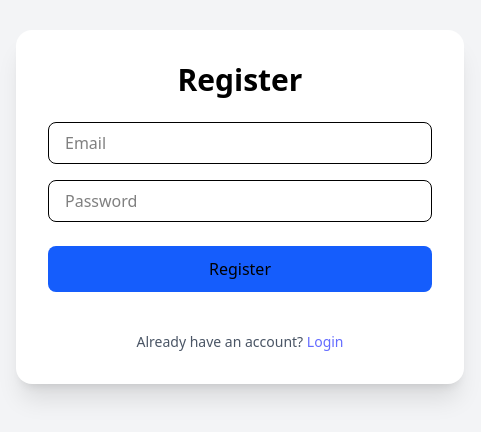
Test: AuthForm Component › password strength should show correct label for strong passwords
Type "Password@123" into the password field with placeholder "Password". click: [240, 201]
box: [48,180,432,222]
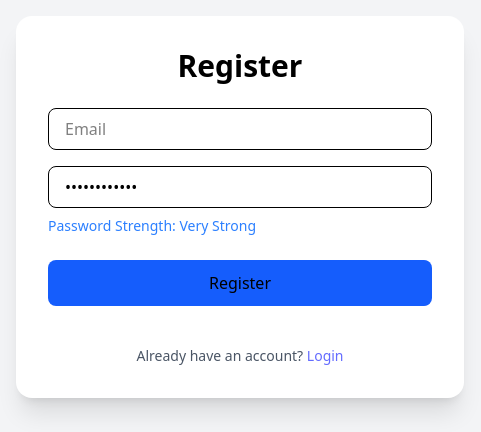
Expected: the text "Password Strength: Very Strong" is shown, [48,216,256,235]
